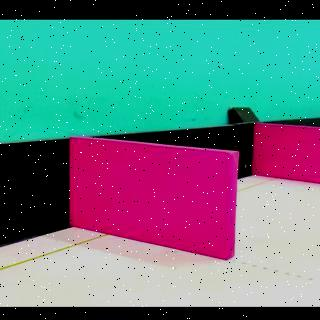xparking: (76, 154, 235, 250), (260, 128, 316, 182)
